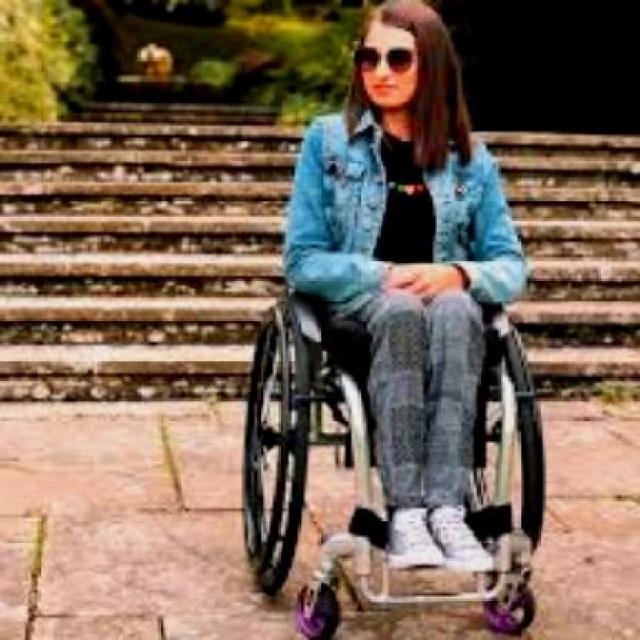wheelchairs: (239, 289, 551, 640)
